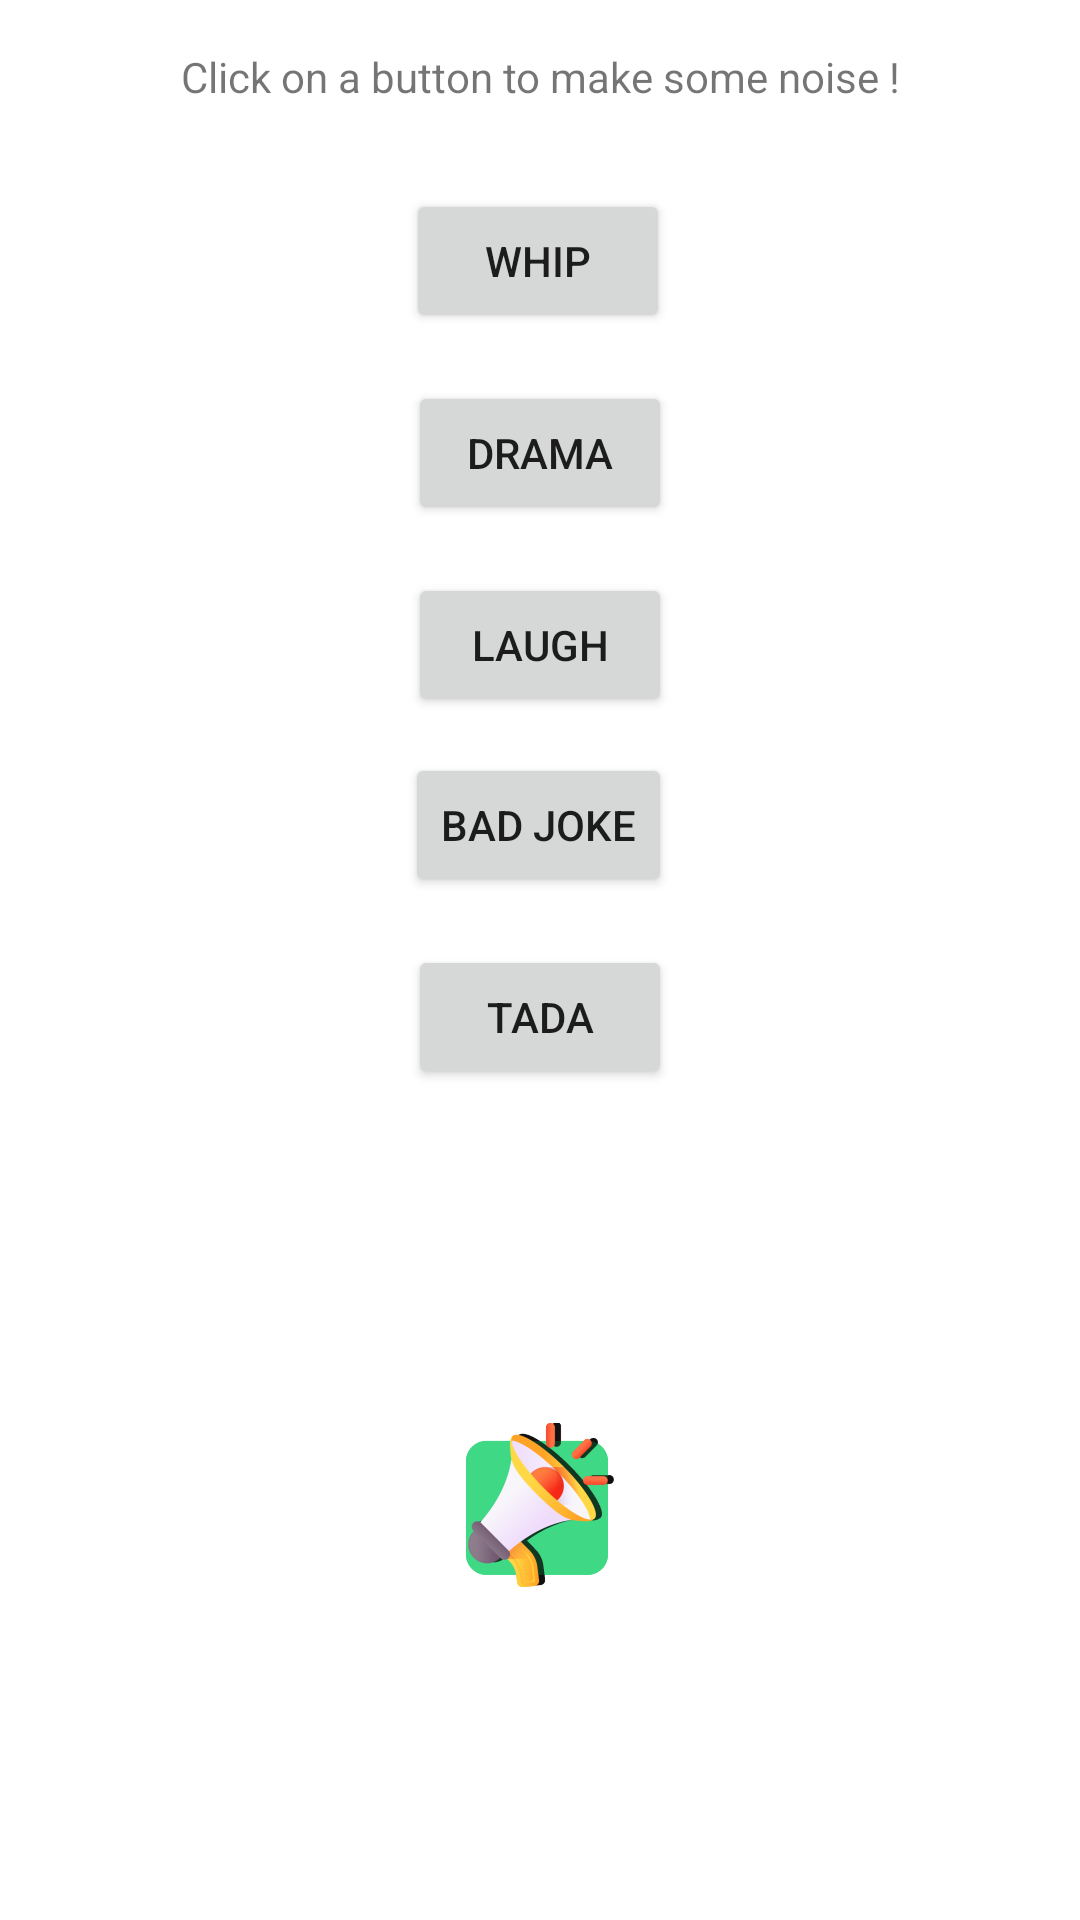

Where icons sit on this 1080*1920 app screen, as (x1, y1, x2, y2):
audioicon: (466, 1423, 614, 1587)
